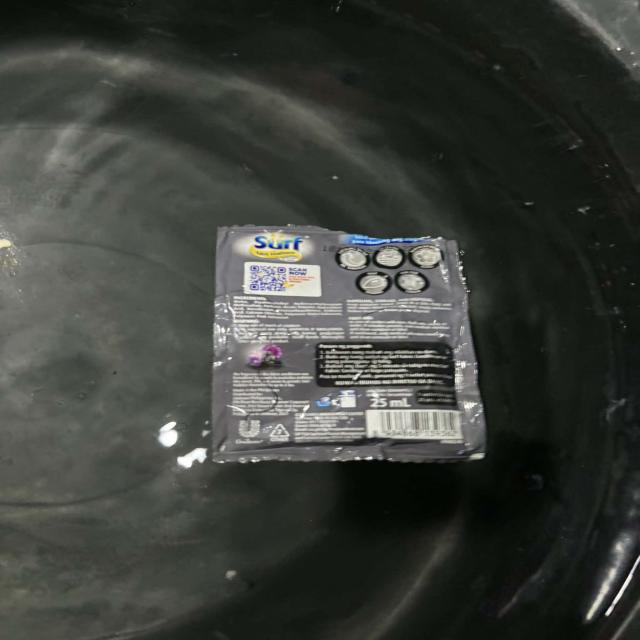Plastic Wrapper: (168, 188, 516, 502)
